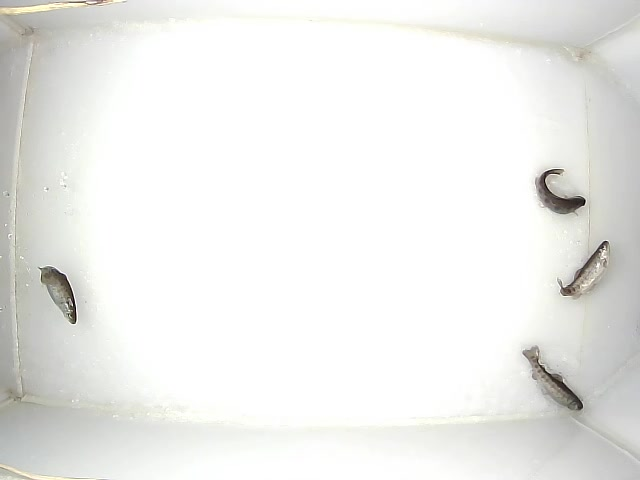fish: (522, 345, 583, 411), (557, 240, 610, 301), (535, 169, 586, 216), (37, 266, 77, 324)
